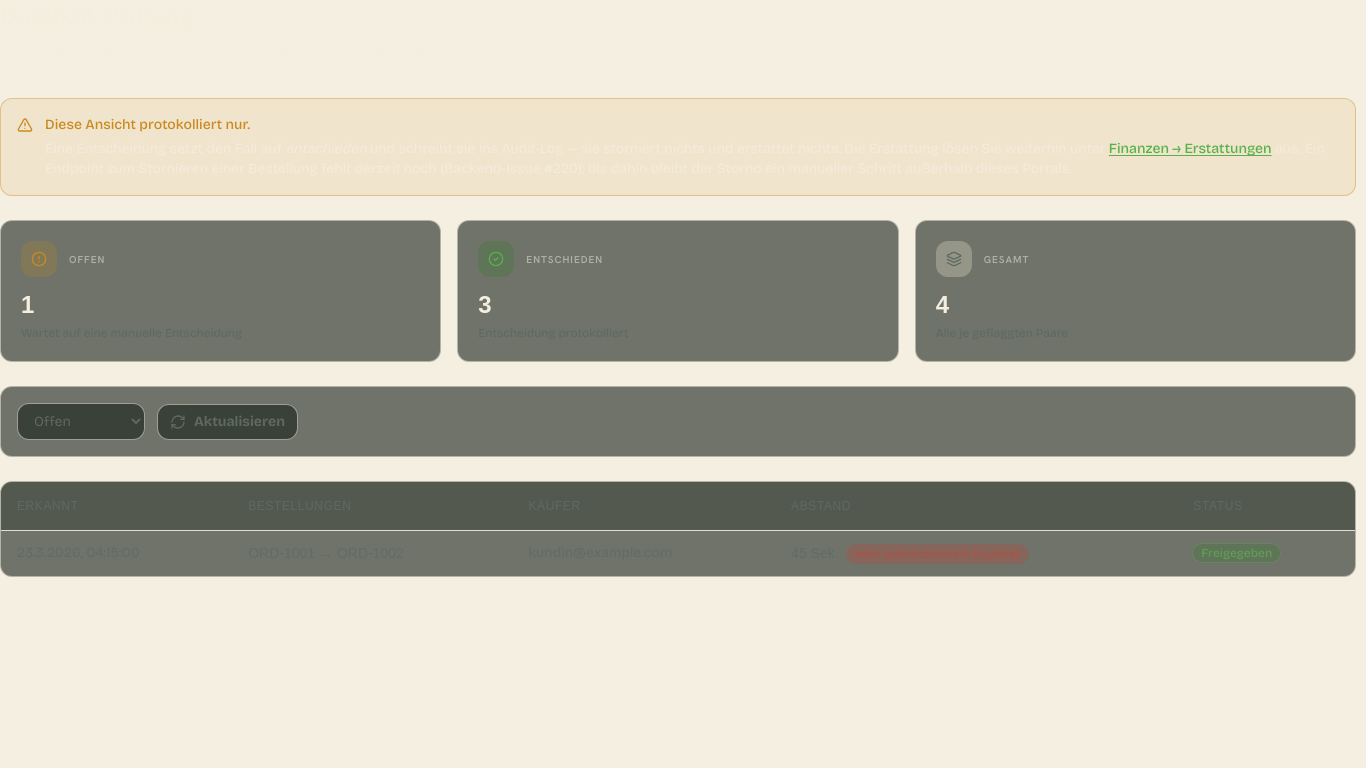
AdminOrderDuplicates › zeigt einen entschiedenen Fall schreibgeschützt — auch ohne bekannten Admin
This screenshot has width=1366, height=768.
Click the text "ORD-1001 → ORD-1002".
click(78, 553)  # box left=1, top=530, right=1355, bottom=576
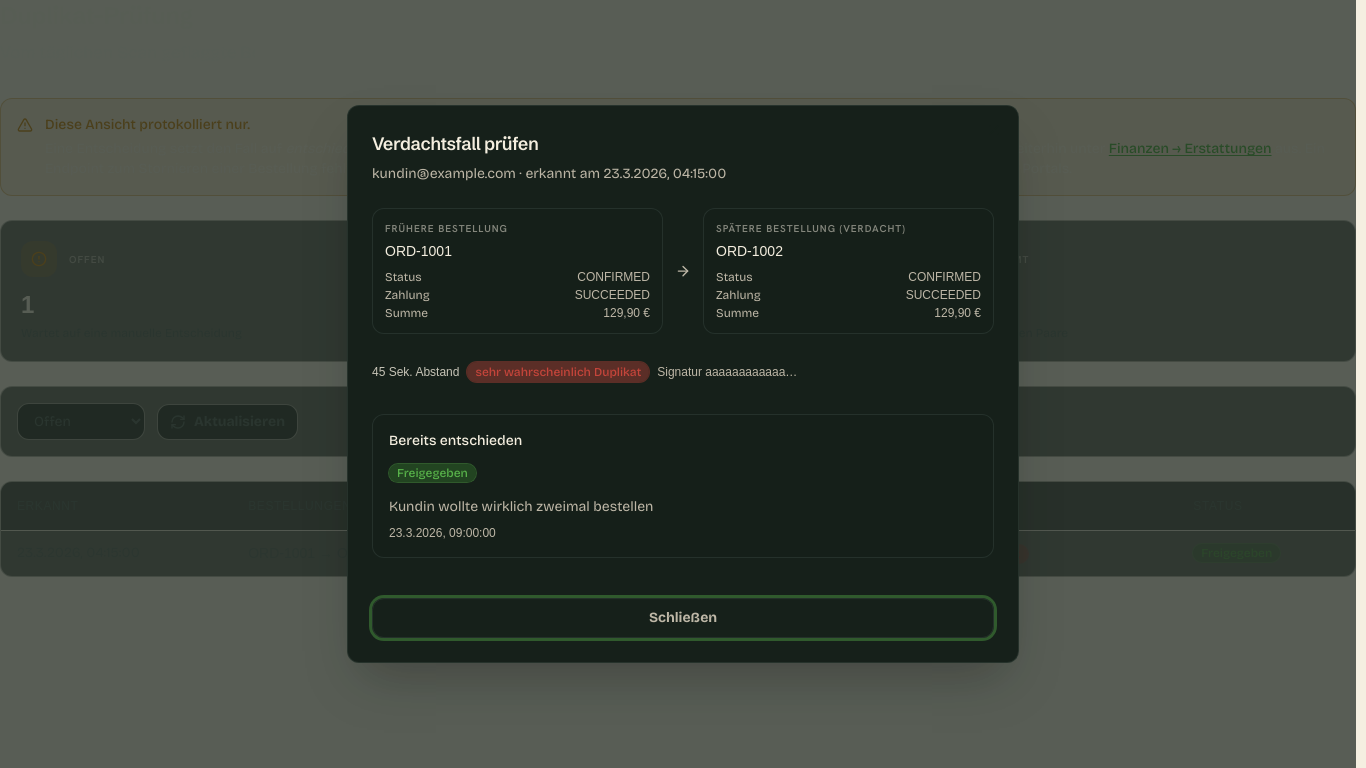
Now the text "Bereits entschieden" is shown, box left=389, top=432, right=522, bottom=449
Now the text "Kundin wollte wirklich zweimal bestellen" is shown, box left=389, top=498, right=654, bottom=515
